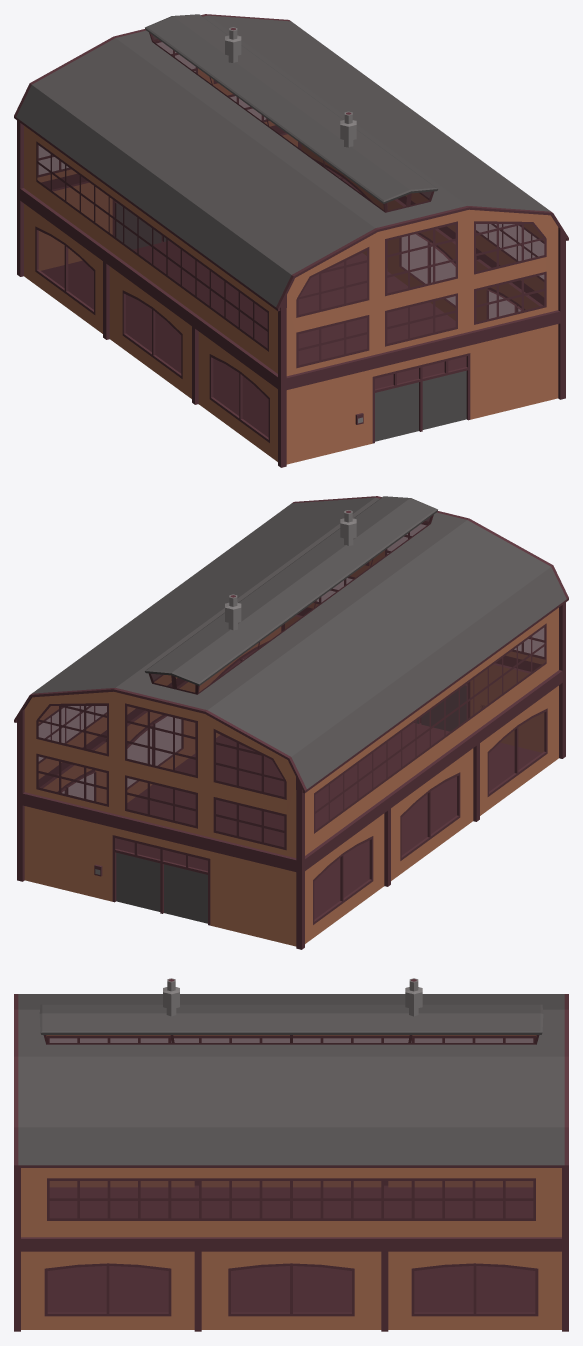
File: industry-factory-hall.fbx
3 renders of one model, top to bottom at view 1: azimuth 30°, elevation 25°; view 2: azimuth 150°, elevation 25°; view 3: azimuth 270°, elevation 25°, orthographic. The views are drawn at different scales.
Parts seen in each view (by area): view 1: industry-factory-hall; view 2: industry-factory-hall; view 3: industry-factory-hall.
Part boxes in pixels (left/top/right/bottom): industry-factory-hall: left=14, top=14, right=568, bottom=467; industry-factory-hall: left=14, top=496, right=568, bottom=949; industry-factory-hall: left=14, top=978, right=568, bottom=1331.
Size of the model in its own units: 12.78 by 11.11 by 20.08.
